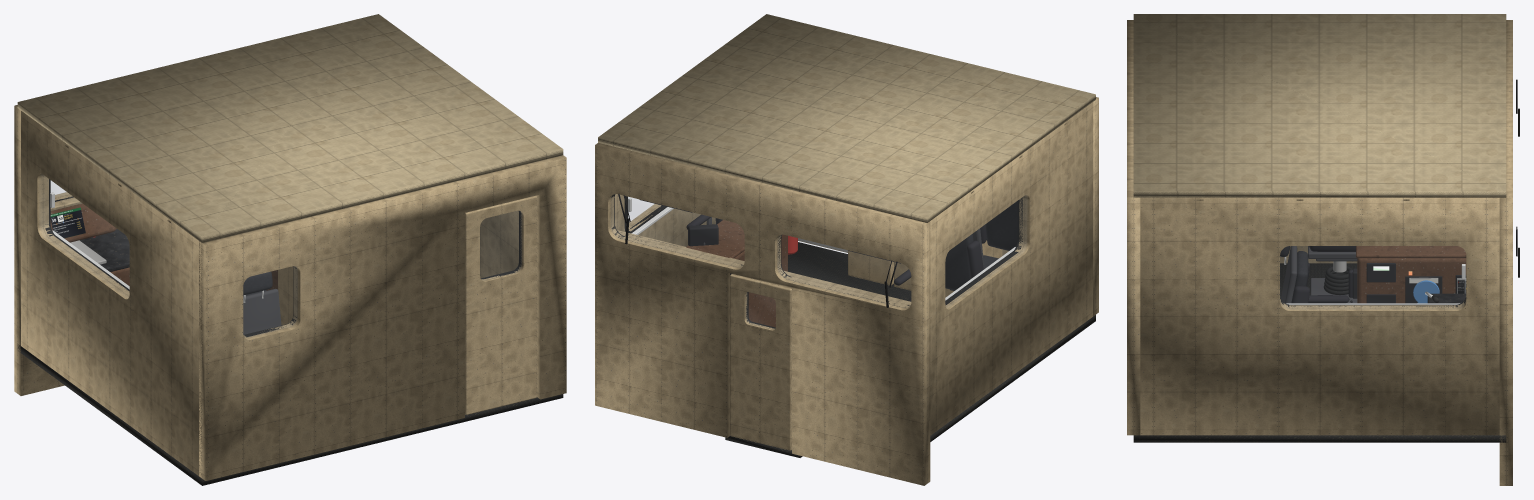
The picture shows the model from 3 angles, left to right: view 1: azimuth 30°, elevation 25°; view 2: azimuth 150°, elevation 25°; view 3: azimuth 270°, elevation 25°; orthographic projection. The views are drawn at different scales.
Parts seen in each view (by area): view 1: back_wall, ceiling, side_wall-1, rdoor, sideglass-1, floor, rwin_glass, front_wall, rdoor_glass, side_wall1, cseat2_backshell, cdesk_top (+3 smaller); view 2: front_wall, ceiling, side_wall-1, door_leaf, windshield0, windshield1, sideglass-1, floor, side_wall1, sill_shelf, back_wall, cseat2_back (+7 smaller); view 3: side_wall1, ceiling, sideglass1, front_wall, back_wall, floor, ge_body, ge_cap, eseat_backshell, ge_radio, sidegasket1, ge_quad0.
Boxes of the visible parts, x1,y1,x2,y2 form: back_wall: (199, 155, 566, 480); ceiling: (17, 14, 563, 242); side_wall-1: (21, 111, 202, 476); rdoor: (465, 195, 537, 414); sideglass-1: (41, 175, 128, 296); floor: (17, 344, 563, 485); rwin_glass: (244, 266, 296, 336); front_wall: (14, 105, 70, 395); rdoor_glass: (480, 211, 521, 279); side_wall1: (480, 210, 518, 278); cseat2_backshell: (243, 288, 281, 334); cdesk_top: (80, 229, 129, 271); front_wall: (595, 143, 930, 485); ceiling: (598, 14, 1095, 222); side_wall-1: (930, 102, 1092, 435); door_leaf: (730, 274, 791, 450); windshield0: (778, 235, 910, 307); windshield1: (611, 194, 743, 266); sideglass-1: (946, 196, 1026, 307); floor: (788, 242, 1095, 441); side_wall1: (614, 194, 715, 246); sill_shelf: (617, 230, 911, 306); back_wall: (1002, 97, 1098, 316); cseat2_back: (985, 201, 1017, 250); side_wall1: (1140, 197, 1504, 435); ceiling: (1133, 14, 1506, 197); sideglass1: (1280, 246, 1465, 308); front_wall: (1499, 20, 1512, 485); back_wall: (1127, 20, 1140, 435); floor: (1133, 263, 1506, 442); ge_body: (1357, 258, 1466, 303); ge_cap: (1356, 246, 1466, 258); eseat_backshell: (1281, 246, 1297, 303); ge_radio: (1366, 263, 1395, 282); sidegasket1: (1280, 296, 1466, 307); ge_quad0: (1413, 280, 1439, 303).
Size of the model in its own units: 3.16 by 2.49 by 2.95.
Materials: 29 (15 with a texture image).
